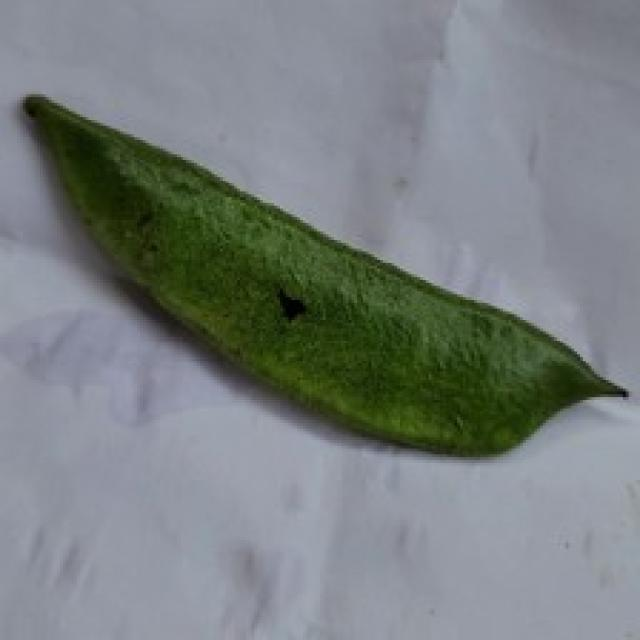Bean: (20, 89, 629, 457)
